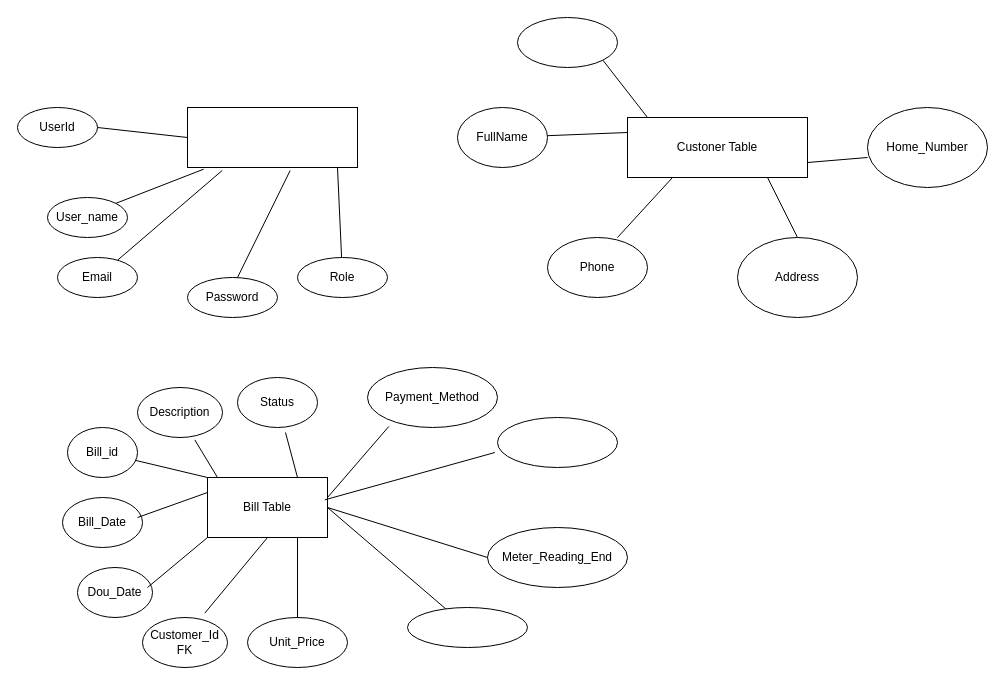
The diagram is 1005 pixels wide and 685 high, and some of its shapes have lost their labels. Each missing label, with the centre of its shape:
"customer_id" belongs at point (567, 42).
"Meter_Reading_Start" belongs at point (467, 627).
"Total" belongs at point (557, 442).
"User Table" belongs at point (272, 137).
